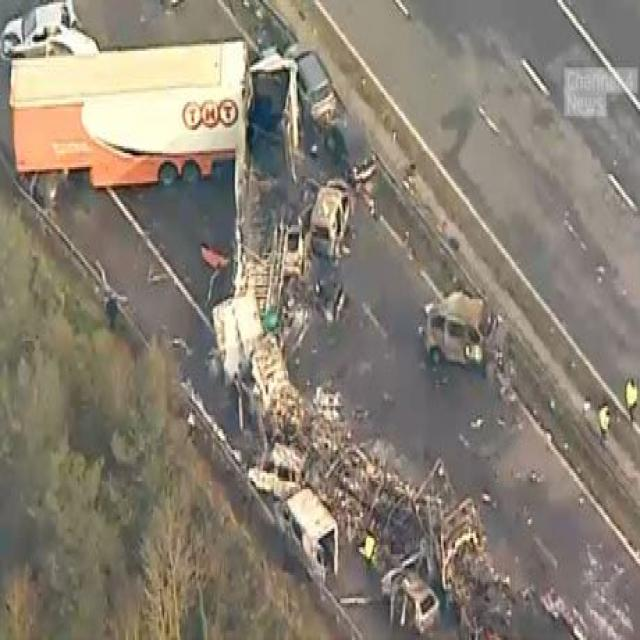traffic_incident: (212, 33, 502, 626)
